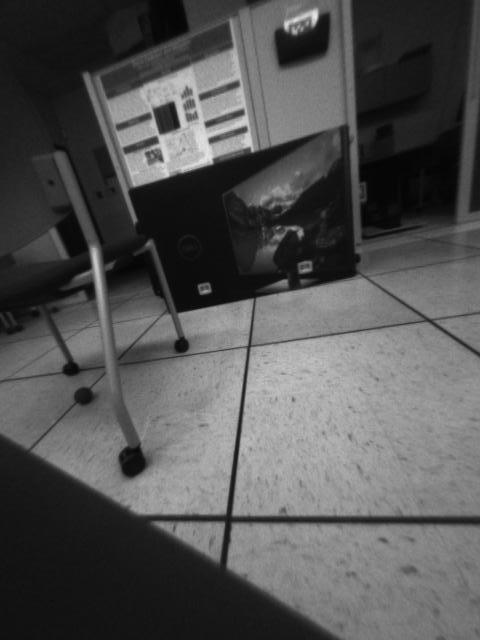dogtoy: (64, 380, 101, 408)
